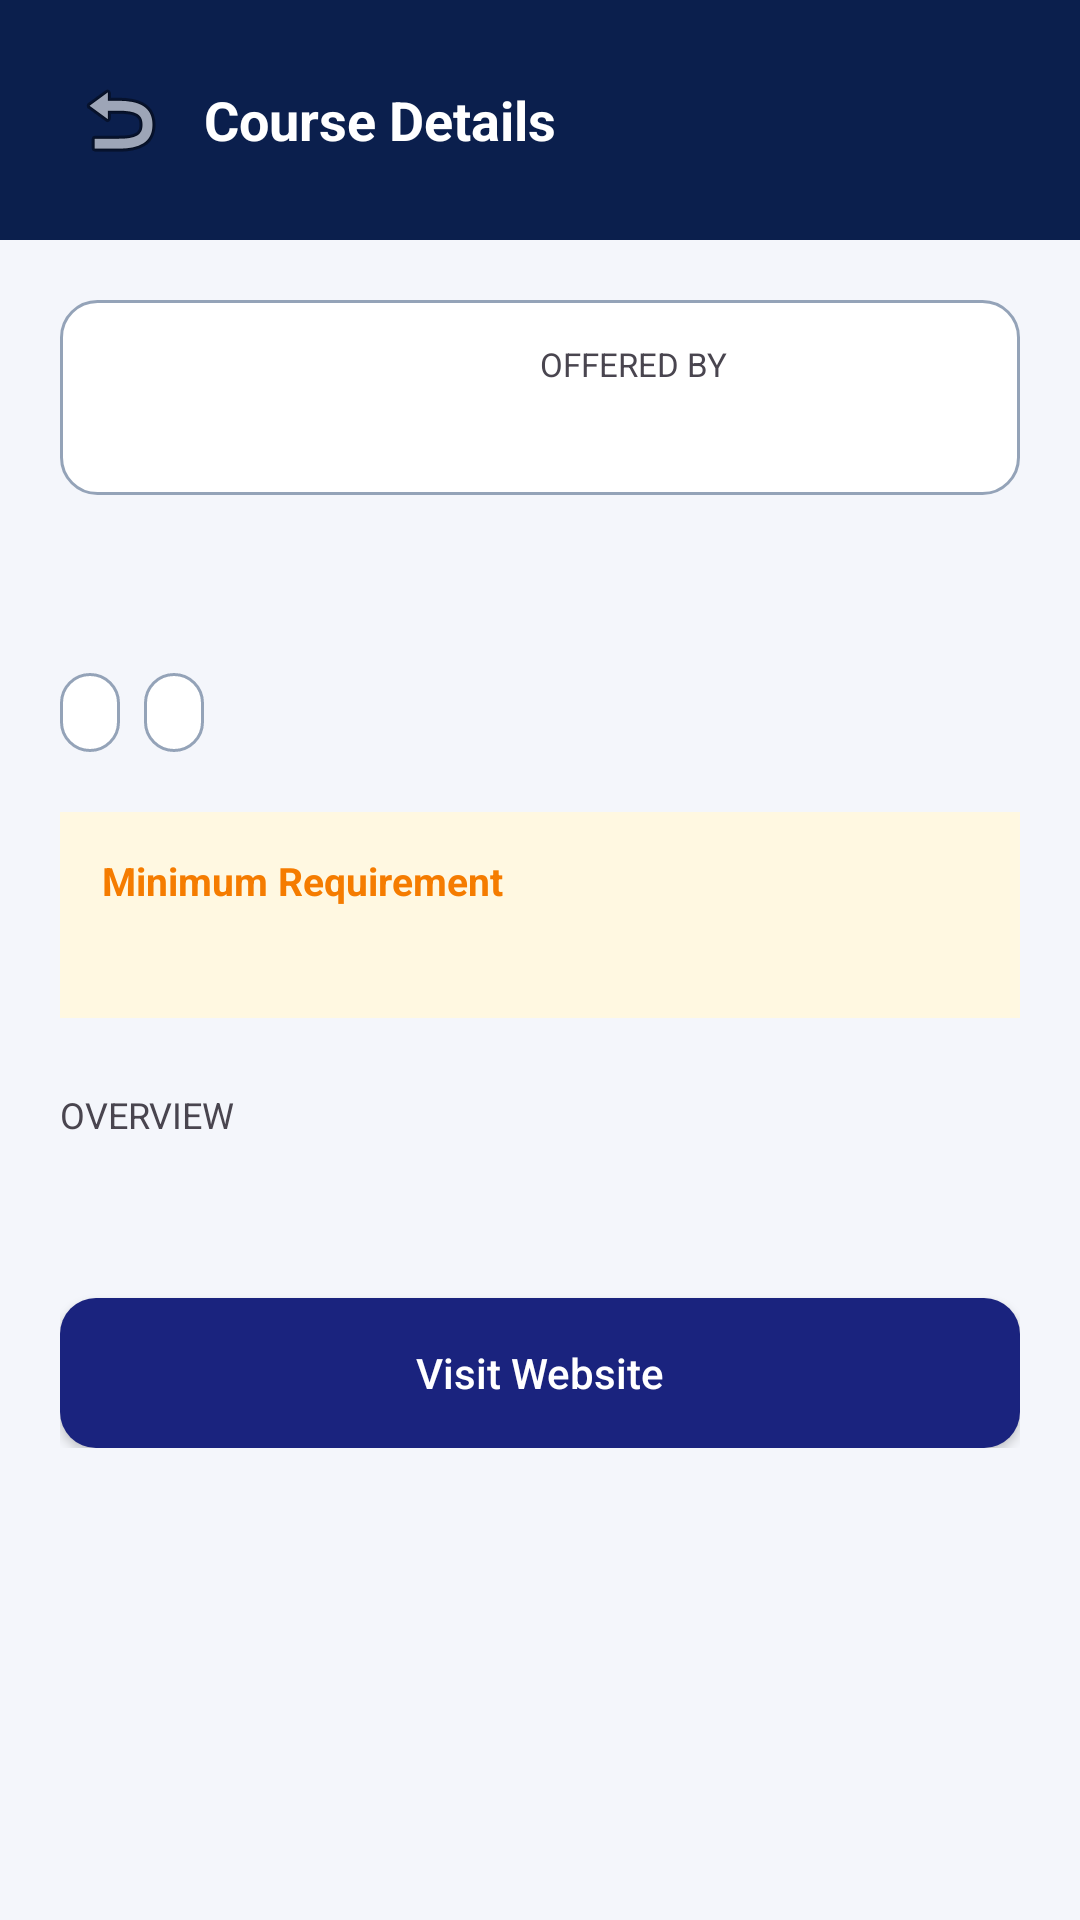

Locate icon controls on the screen. Image size 1080x1920, boxes as (x1, y1, x2, y2).
Back: (87, 90, 155, 151)
